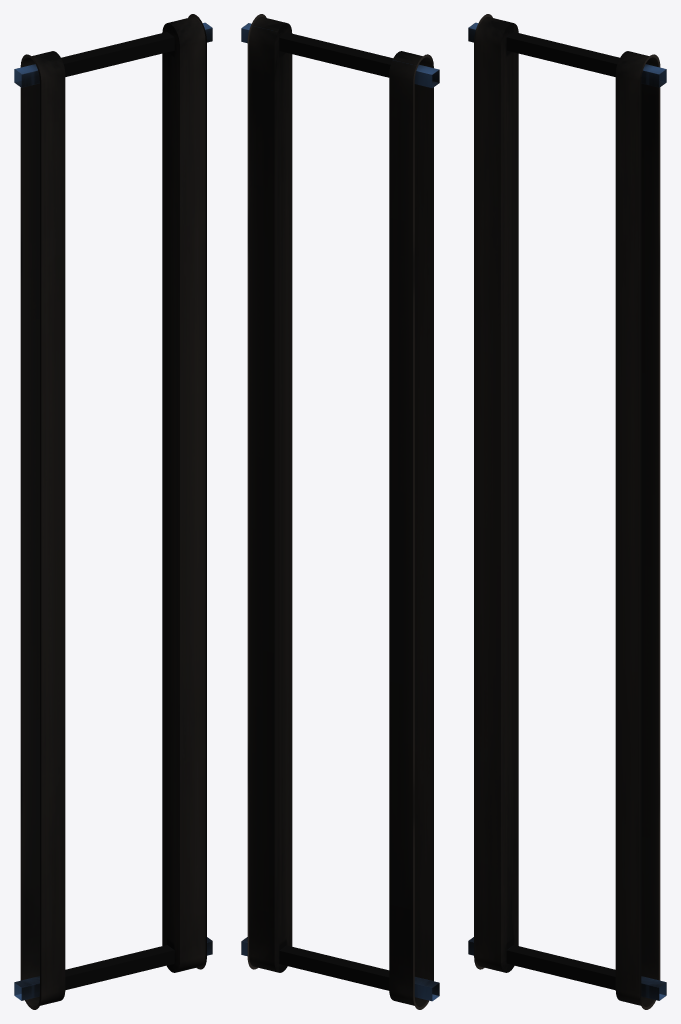
File: conveyor2.dae
3 renders of one model, left to right at view 1: azimuth 30°, elevation 25°; view 2: azimuth 150°, elevation 25°; view 3: azimuth 330°, elevation 25°, orthographic.
Parts seen in each view (by area): view 1: Conveyor01Frame_Conveyor_0.003; view 2: Conveyor01Frame_Conveyor_0.003; view 3: Conveyor01Frame_Conveyor_0.003.
Boxes of the visible parts, x1=… form: Conveyor01Frame_Conveyor_0.003: x1=14, y1=14, x2=212, y2=1009; Conveyor01Frame_Conveyor_0.003: x1=241, y1=14, x2=439, y2=1009; Conveyor01Frame_Conveyor_0.003: x1=468, y1=14, x2=666, y2=1009.
Bounding box in the file's own units: 0.75 × 0.14 × 3.57.
